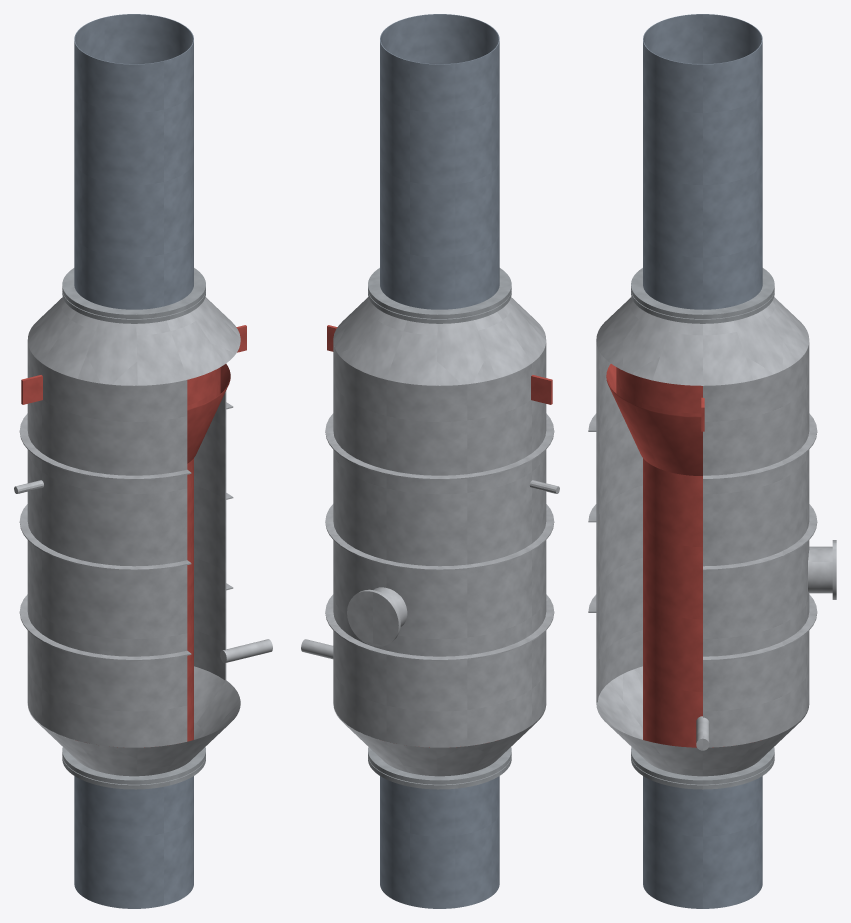
File: molecular-seals.glb
The picture shows the model from 3 angles, left to right: view 1: azimuth 30°, elevation 25°; view 2: azimuth 150°, elevation 25°; view 3: azimuth 270°, elevation 25°; orthographic projection.
Parts seen in each view (by area): view 1: SealShell, StackSections(context), Flanges, InnerBaffle&Cone, Nozzles&Manway, LiftingLugs; view 2: SealShell, StackSections(context), Flanges, Nozzles&Manway, LiftingLugs; view 3: SealShell, StackSections(context), InnerBaffle&Cone, Flanges, Nozzles&Manway.
Part boxes in pixels (x1,y1,x2,y2): SealShell: (19,297,240,776); StackSections(context): (74,14,193,908); Flanges: (62,268,205,789); InnerBaffle&Cone: (117,364,230,747); Nozzles&Manway: (14,480,272,663); LiftingLugs: (21,325,246,404); SealShell: (325,297,554,776); StackSections(context): (380,14,499,908); Flanges: (368,268,511,789); Nozzles&Manway: (301,480,559,659); LiftingLugs: (327,325,552,404); SealShell: (588,297,817,776); StackSections(context): (643,14,762,908); InnerBaffle&Cone: (606,364,723,747); Flanges: (631,268,774,789); Nozzles&Manway: (696,540,836,750).
Size of the model in its own units: 4.4 by 14 by 3.73.
Materials: 5 (5 with a texture image).
